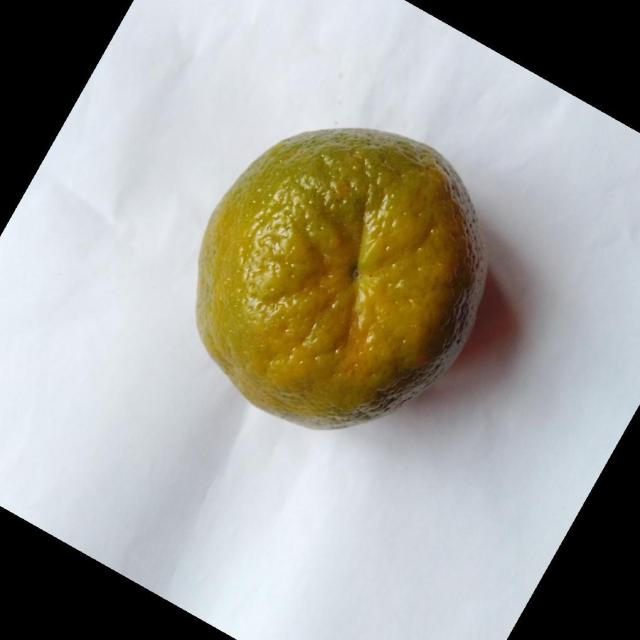fresh orange: (194, 126, 489, 430)
